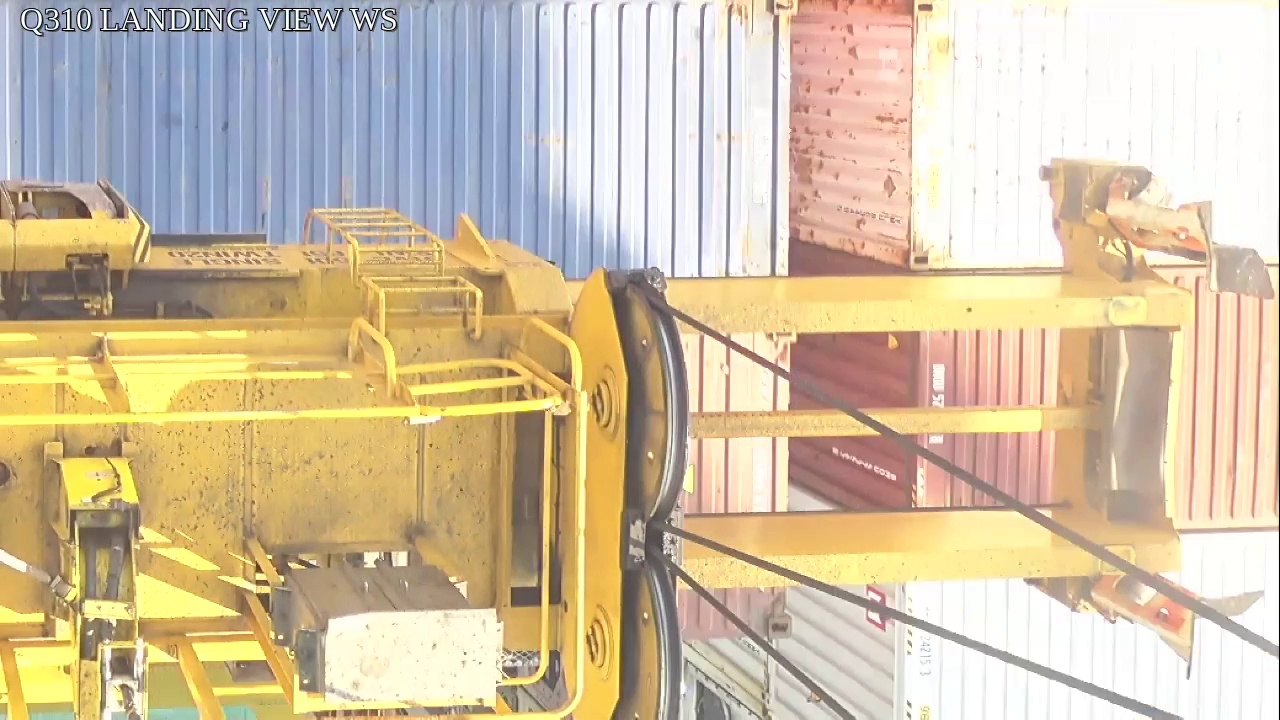right: (556, 269, 688, 720)
